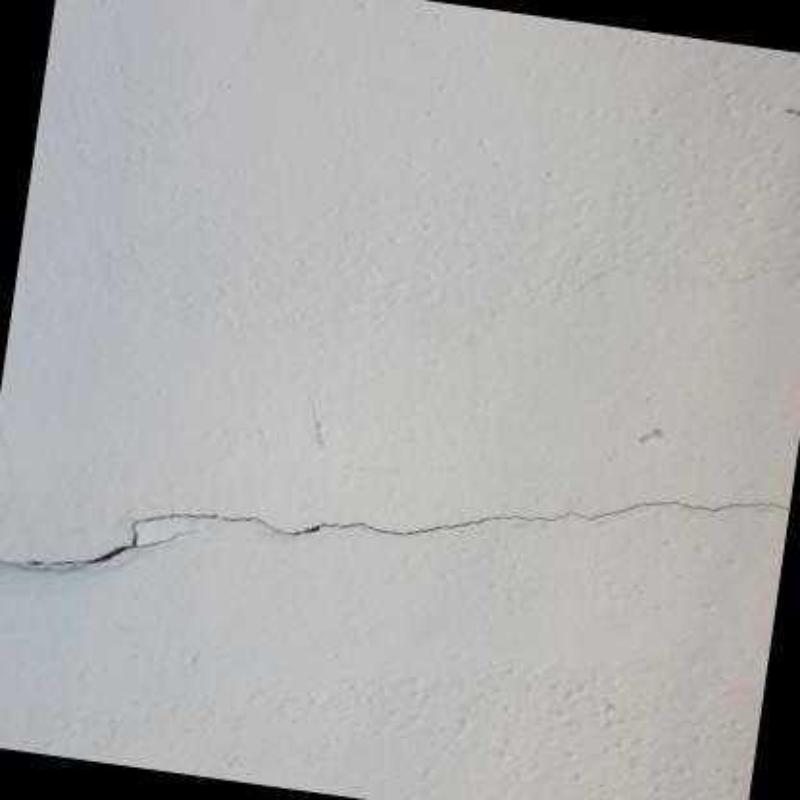pothole: (0, 499, 789, 568)
